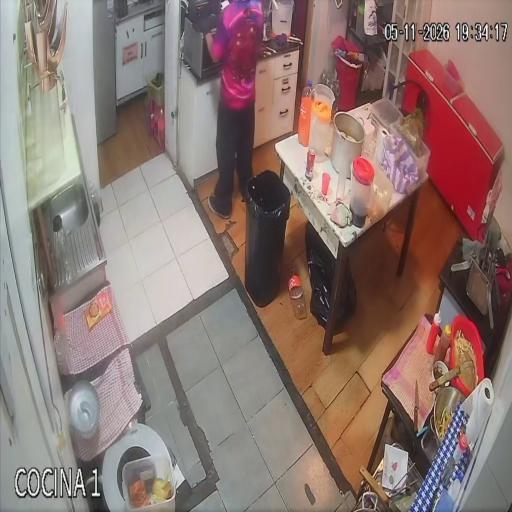Basurero: (244, 171, 290, 307)
Cuchillo1: (414, 381, 419, 434)
Envase Ketchup: (426, 312, 441, 355)
Jarra1: (349, 157, 374, 227)
Jarra2: (308, 99, 332, 160)
Jarra3: (314, 83, 334, 108)
Microondas: (183, 14, 244, 78)
Persona1: (206, 0, 263, 217)
Tapa de olla: (68, 379, 100, 441)
Taper: (372, 99, 402, 131)
Vaso1: (322, 172, 330, 197)
olla1: (331, 112, 365, 179)
